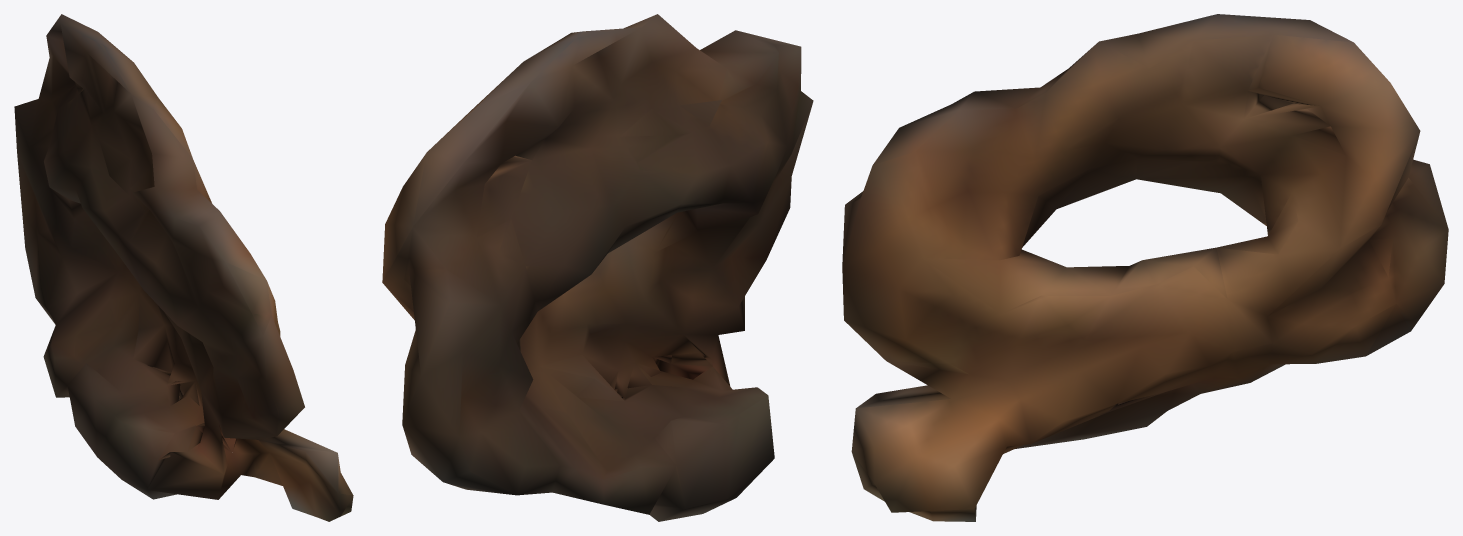
File: rope.glb
3 views of the same model, side by side, from view 1: azimuth 30°, elevation 25°; view 2: azimuth 150°, elevation 25°; view 3: azimuth 270°, elevation 25° (orthographic). The views are drawn at different scales.
Visible parts, largest first — view 1: model; view 2: model; view 3: model.
Part boxes in pixels (bbox=[...]): model: bbox=[14, 14, 353, 521]; model: bbox=[382, 14, 813, 521]; model: bbox=[842, 14, 1448, 521].
Size of the model in its own units: 0.14 by 0.3317 by 0.3945.
1 material, 1 textured.
